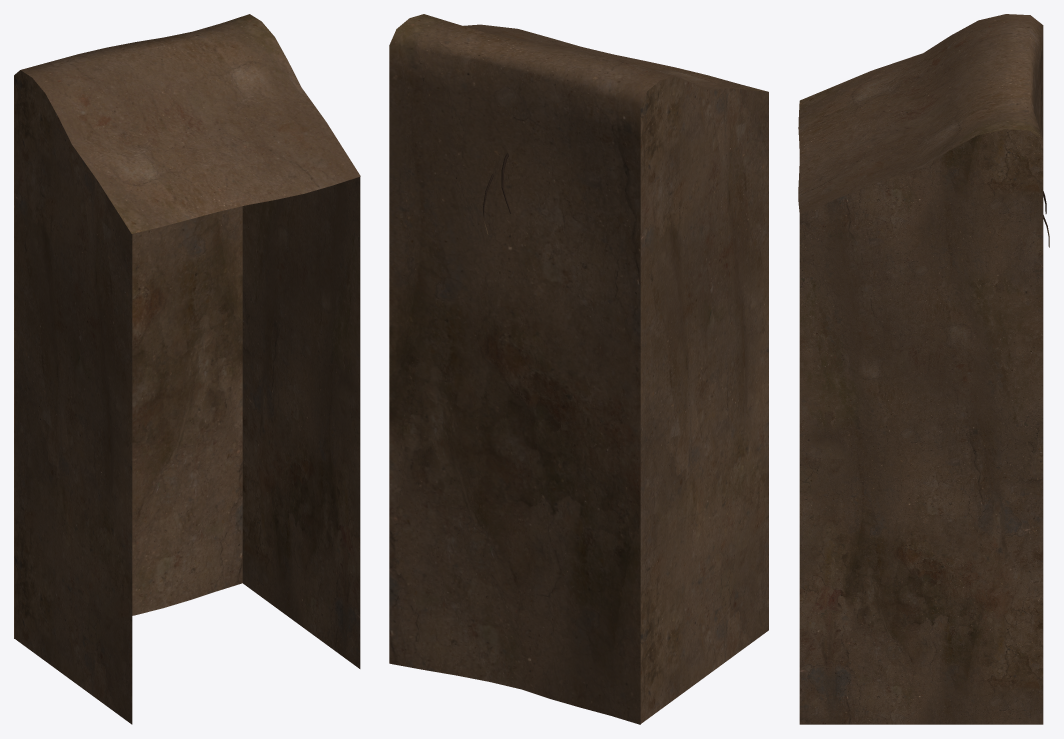
File: S7U_EarthWall_1m.fbx
3 views of the same model, side by side, from view 1: azimuth 30°, elevation 25°; view 2: azimuth 150°, elevation 25°; view 3: azimuth 270°, elevation 25° (orthographic). The views are drawn at different scales.
Visible parts, largest first — view 1: S7U_EarthWall_1m; view 2: S7U_EarthWall_1m; view 3: S7U_EarthWall_1m.
Part boxes in pixels (x1=…): S7U_EarthWall_1m: x1=14, y1=14, x2=360, y2=724; S7U_EarthWall_1m: x1=389, y1=14, x2=768, y2=724; S7U_EarthWall_1m: x1=798, y1=14, x2=1049, y2=724.
Bounding box in the file's own units: 1 × 2.4 × 0.9163.
